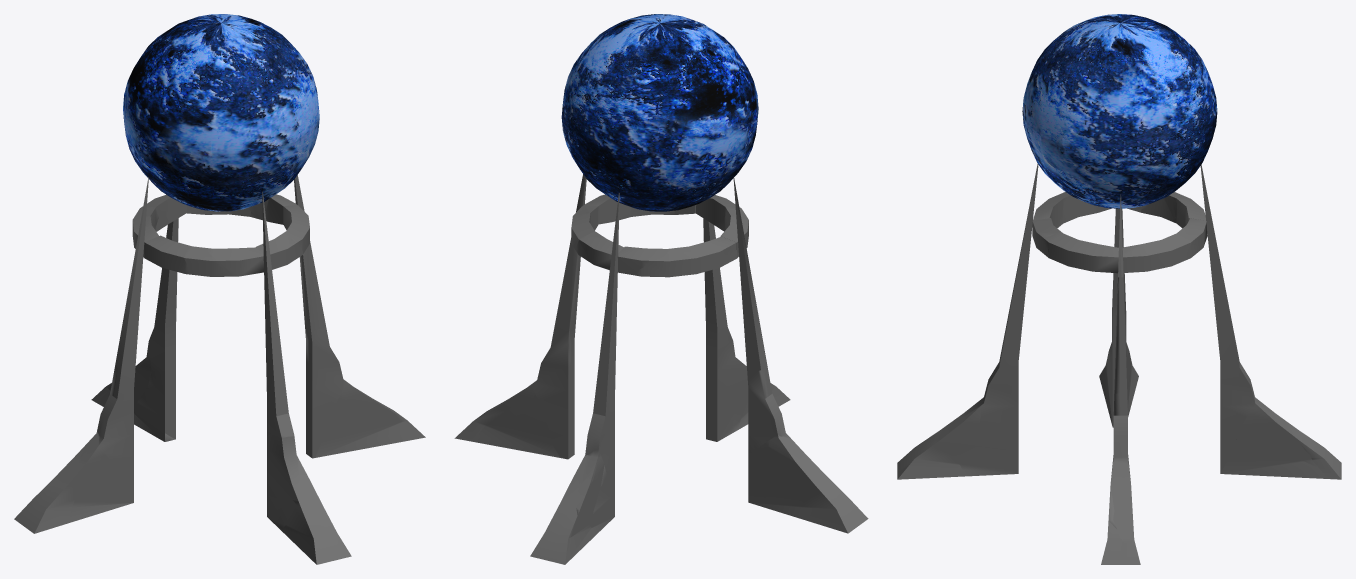
File: Orb Tower Collapse.fbx
3 renders of one model, left to right at view 1: azimuth 30°, elevation 25°; view 2: azimuth 150°, elevation 25°; view 3: azimuth 270°, elevation 25°, orthographic.
Parts seen in each view (by area): view 1: shard32, shard34, shard41, shard62, shard59, shard69, shard13, shard45, shard51, shard54, shard44, shard26 (+27 smaller); view 2: shard22, shard31, shard59, shard5, shard51, shard8, shard12, shard62, shard69, shard44, shard45, shard43 (+27 smaller); view 3: shard3, shard12, shard69, shard13, shard6, shard42, shard70, shard51, shard76, shard55, shard73, shard54 (+21 smaller).
Part boxes in pixels (left/top/right/bottom): shard32: left=173, top=58, right=291, bottom=153; shard34: left=150, top=110, right=254, bottom=197; shard41: left=141, top=56, right=265, bottom=122; shard62: left=315, top=397, right=408, bottom=457; shard59: left=305, top=326, right=346, bottom=458; shard69: left=147, top=278, right=176, bottom=439; shard13: left=261, top=64, right=318, bottom=153; shard45: left=97, top=366, right=134, bottom=482; shard51: left=267, top=434, right=299, bottom=528; shard54: left=281, top=505, right=342, bottom=564; shard44: left=115, top=177, right=148, bottom=376; shard26: left=186, top=153, right=272, bottom=210; shard22: left=619, top=91, right=748, bottom=138; shard31: left=604, top=39, right=728, bottom=95; shard59: left=532, top=325, right=575, bottom=459; shard5: left=664, top=105, right=755, bottom=186; shard51: left=706, top=339, right=747, bottom=441; shard8: left=572, top=75, right=625, bottom=142; shard12: left=570, top=14, right=670, bottom=81; shard62: left=472, top=401, right=559, bottom=457; shard69: left=585, top=356, right=615, bottom=507; shard44: left=733, top=176, right=767, bottom=380; shard45: left=748, top=366, right=791, bottom=455; shard43: left=800, top=475, right=868, bottom=533; shard3: left=1062, top=103, right=1192, bottom=200; shard12: left=1065, top=24, right=1193, bottom=113; shard69: left=1217, top=312, right=1255, bottom=473; shard13: left=1022, top=72, right=1080, bottom=140; shard6: left=1065, top=67, right=1140, bottom=135; shard42: left=1051, top=120, right=1198, bottom=208; shard70: left=1220, top=431, right=1327, bottom=478; shard51: left=950, top=377, right=1018, bottom=473; shard76: left=1043, top=232, right=1118, bottom=273; shard55: left=932, top=438, right=1015, bottom=476; shard73: left=1239, top=402, right=1318, bottom=467; shard54: left=897, top=427, right=965, bottom=479.
Size of the model in its own units: 73.15 by 80.99 by 72.76.
Materials: 3 (2 with a texture image).
